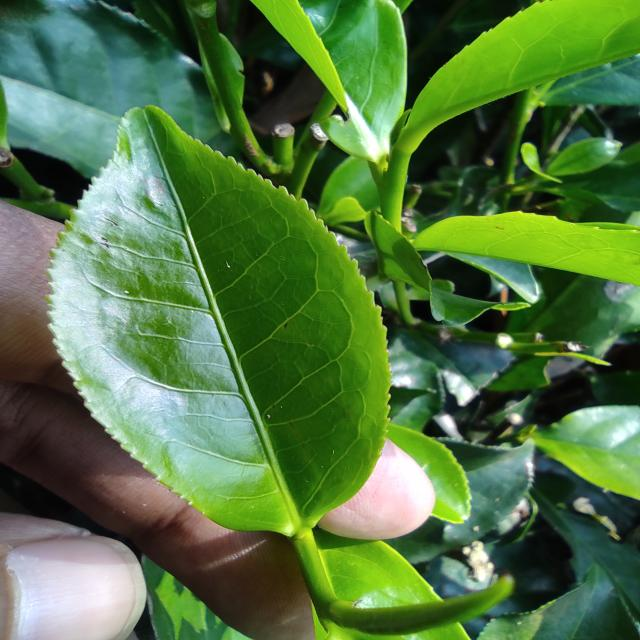Category C(4-7 days): (22, 85, 403, 547)
